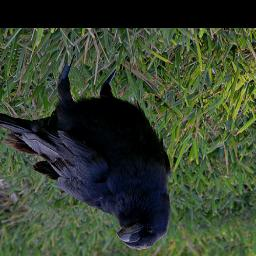Crow: (0, 50, 171, 250)
